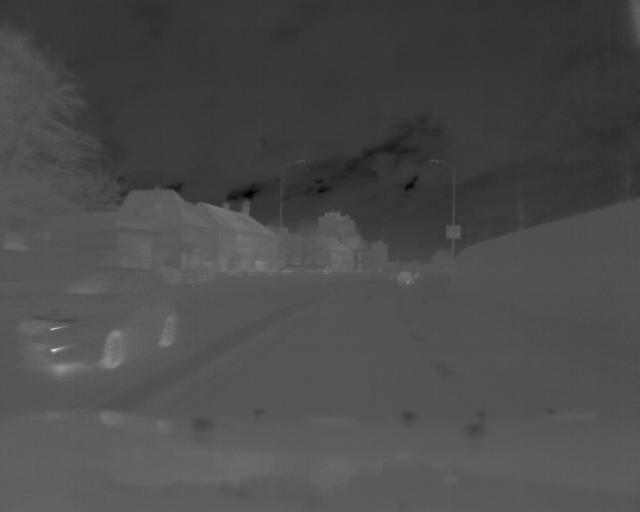car: (20, 251, 189, 375), (396, 271, 418, 288)
